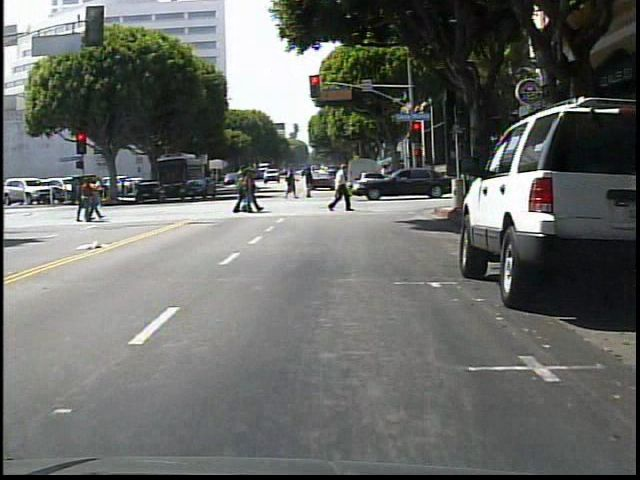person: (329, 160, 356, 216)
